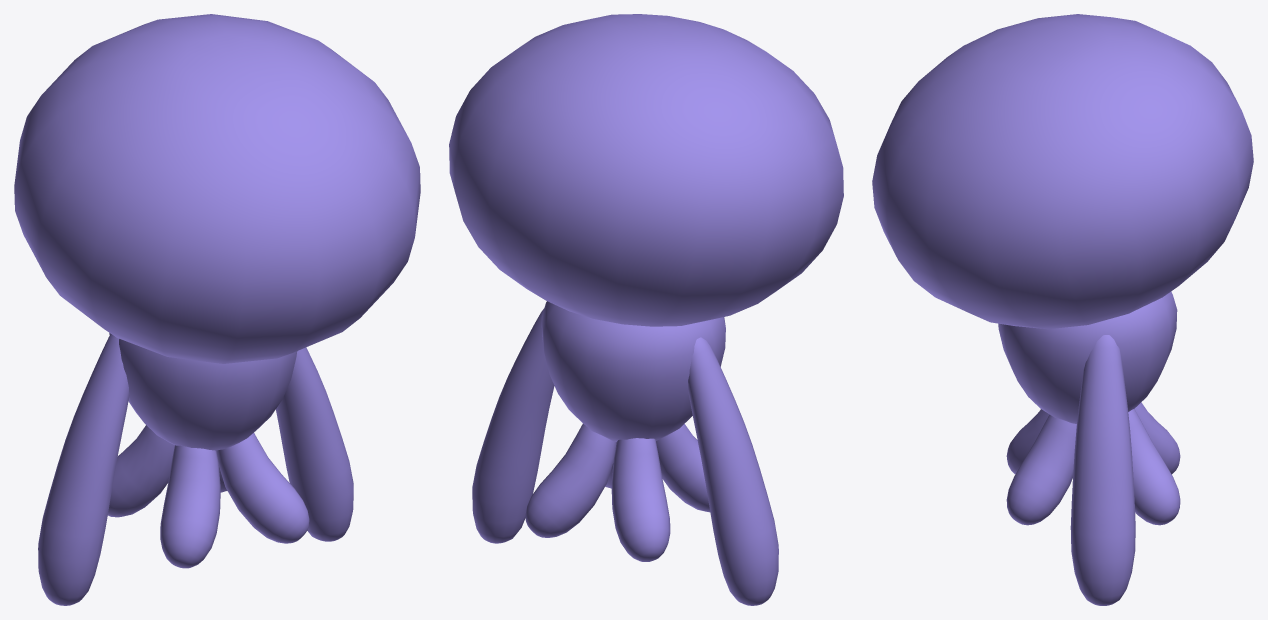
The model's file is Alien1.fbx.
The picture shows the model from 3 angles, left to right: view 1: azimuth 30°, elevation 25°; view 2: azimuth 150°, elevation 25°; view 3: azimuth 270°, elevation 25°; orthographic projection. The views are drawn at different scales.
Visible parts, largest first — view 1: 円.001; view 2: 円.001; view 3: 円.001.
Boxes of the visible parts, x1,y1,x2,y2 form: 円.001: (14,14,420,605); 円.001: (449,14,843,605); 円.001: (872,14,1253,605).
Size of the model in its own units: 38.76 by 56.24 by 38.38.
